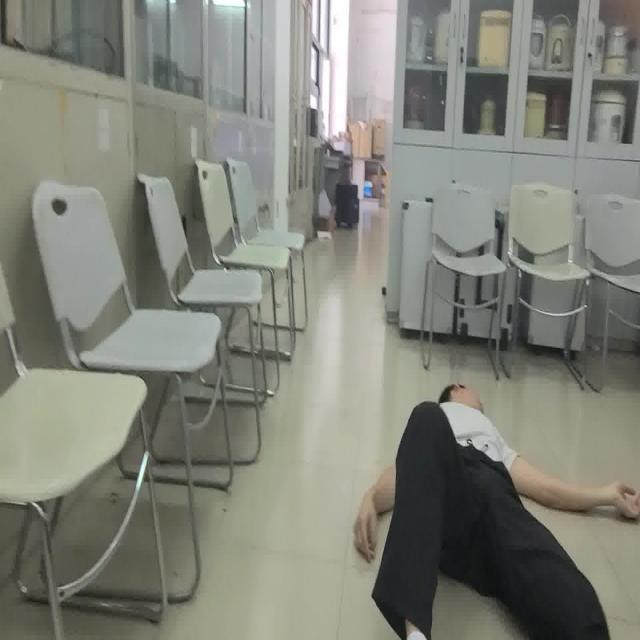Fall-Detected: (351, 374, 640, 640)
